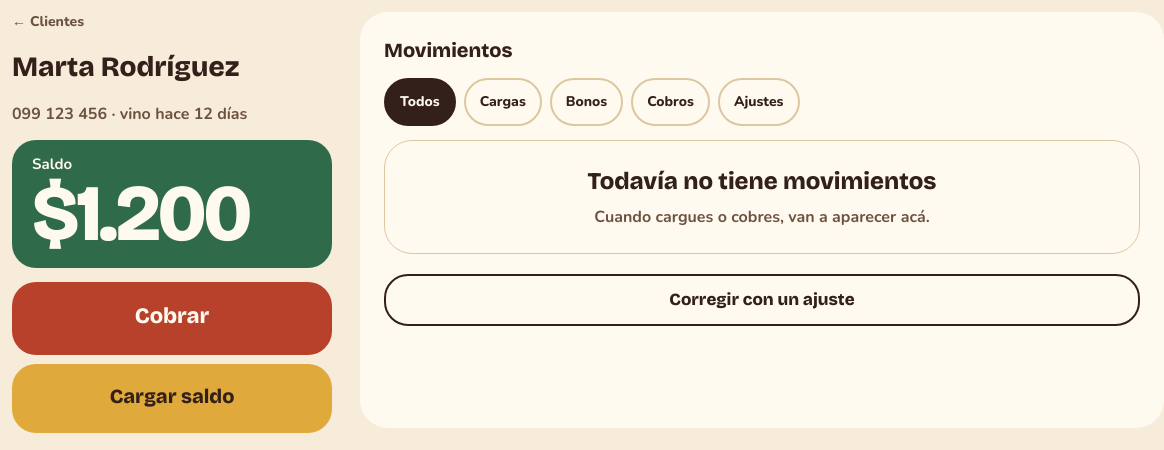
Test: Ficha del cliente › explica cuando no hay movimientos, con y sin filtro
This screenshot has width=1164, height=450.
Expected: the text "Todavía no tiene movimientos" is shown, [588,167,936,195]
Click the button "Bonos" at (587, 102), box [550,78,623,126]
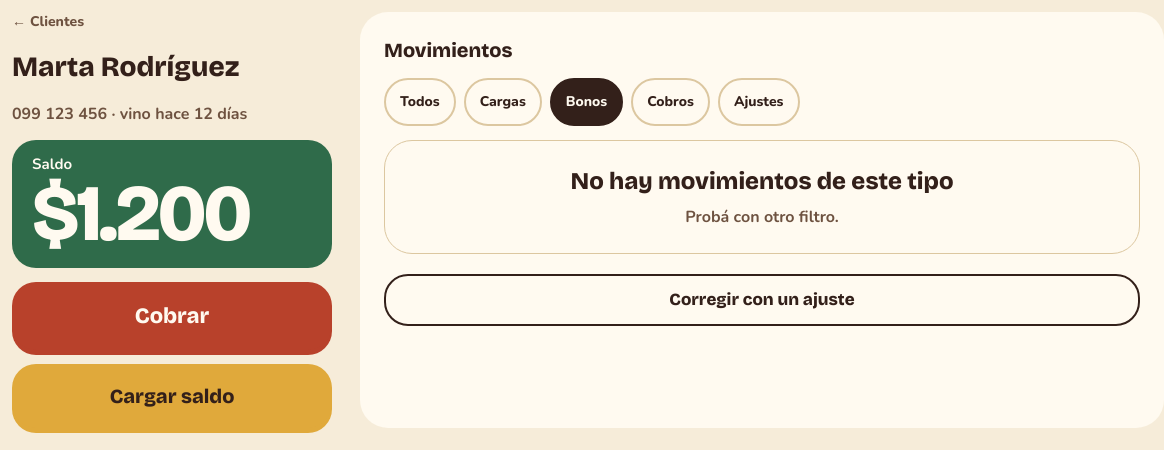
Expected: the text "No hay movimientos de este tipo" is shown, [570,167,954,195]
